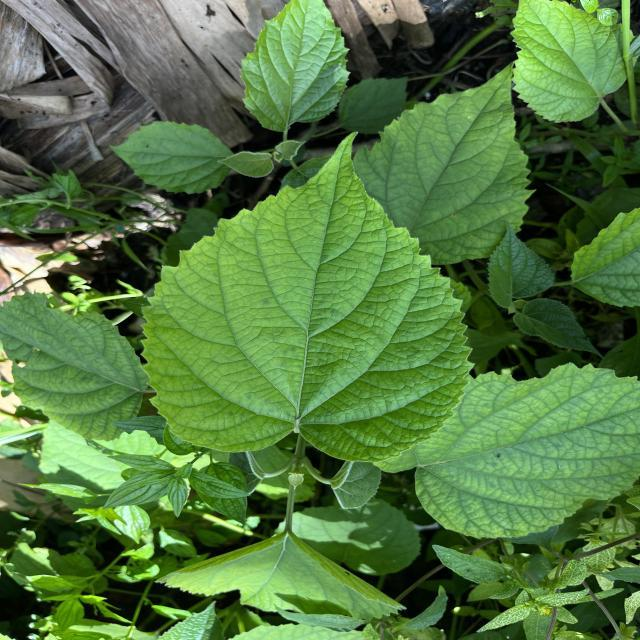Clerodendrum infortunatum: (136, 127, 481, 466), (372, 360, 640, 542), (354, 57, 542, 266), (2, 289, 152, 444)
